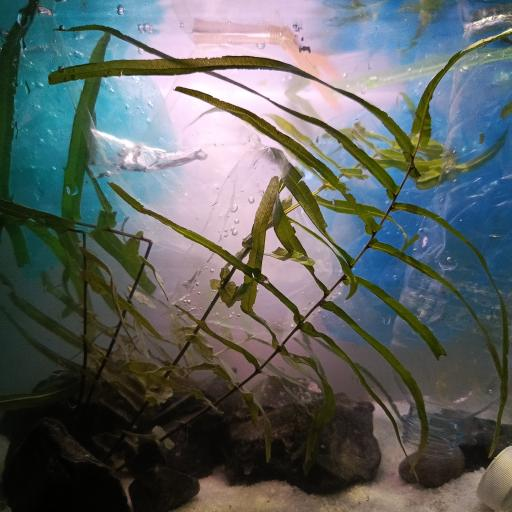bottle_cap: (473, 445, 512, 512)
plastic_bag: (90, 134, 309, 410), (311, 81, 512, 350), (1, 6, 189, 270)
plastic_bottle: (394, 14, 512, 461)
plastic_straw: (196, 35, 344, 113), (350, 44, 512, 90)
